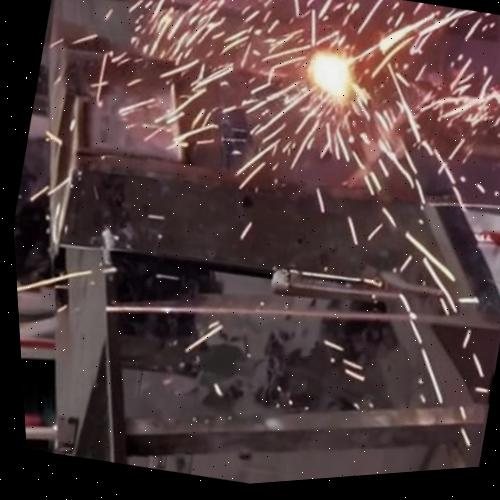fire: (65, 1, 465, 400)
